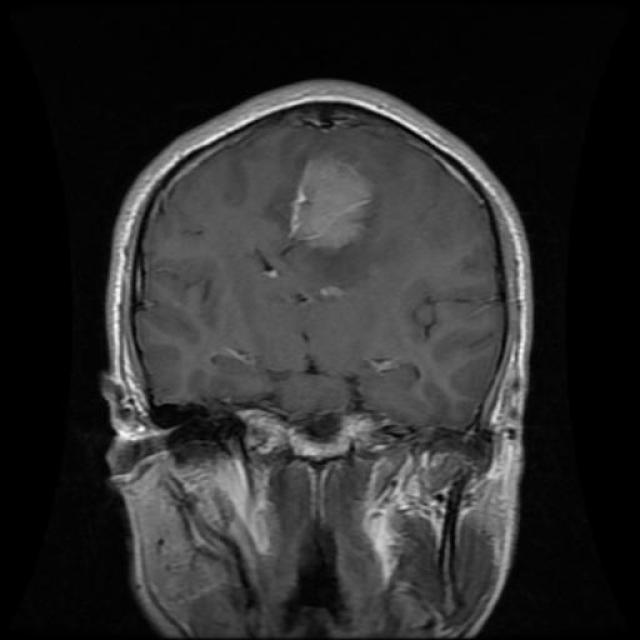meningioma: (290, 159, 372, 249)
